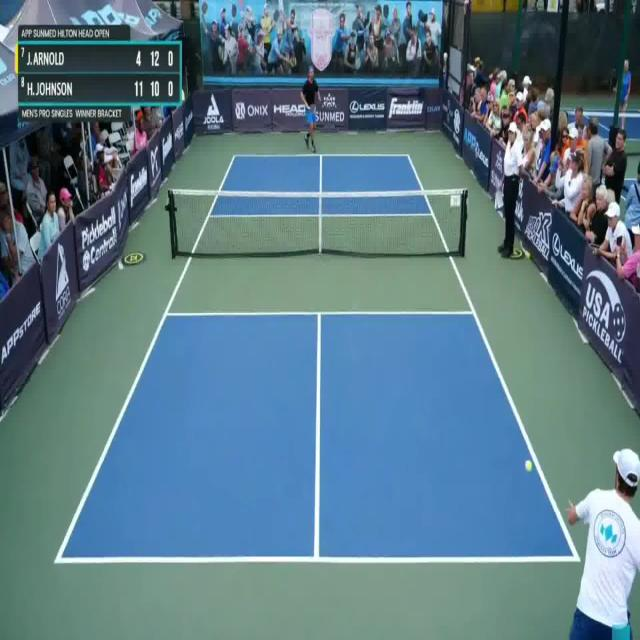ball: (525, 459, 532, 471)
